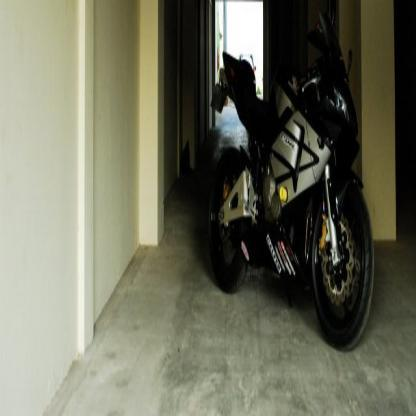motorcycle: (209, 28, 368, 315)
